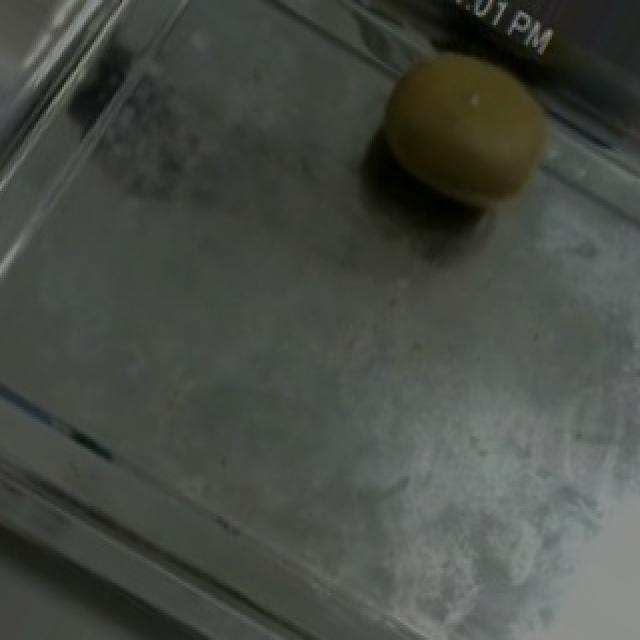Fruit: (346, 5, 588, 248)
